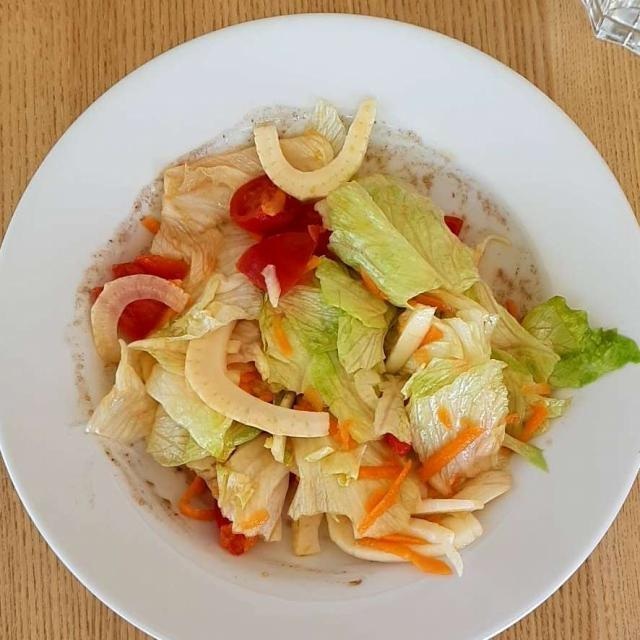carrot: (355, 376, 552, 579)
salad: (88, 117, 618, 561)
tomato: (101, 186, 322, 343)
